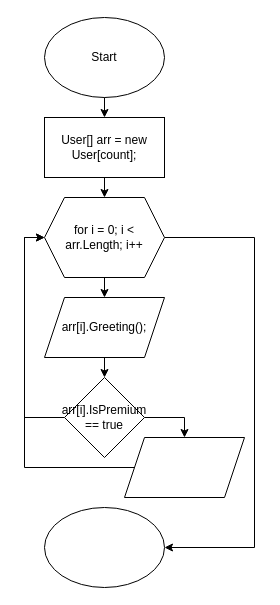
Image size: 280x605. Some labels were removed from this diagram. The shapes that lost their labels are listed below. From the top down, each one's centre as x and y in pixels, then its label:
point (184, 467): arr[i].ShowAdds();
point (104, 547): Finish
